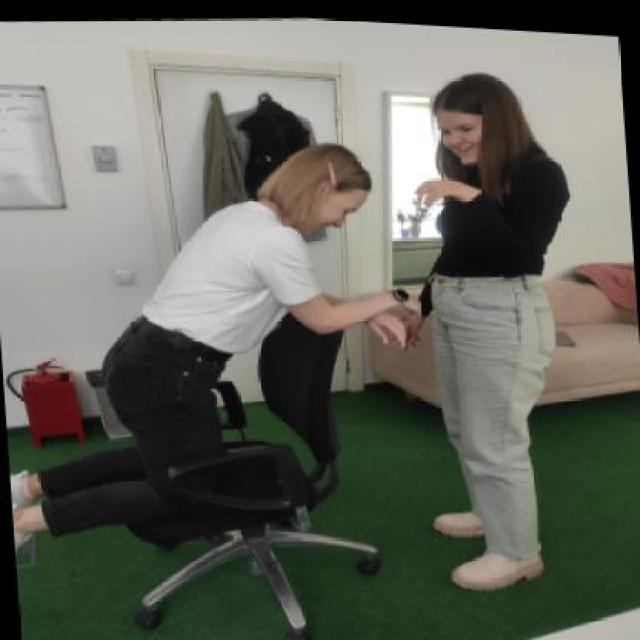chair: (90, 276, 402, 638)
